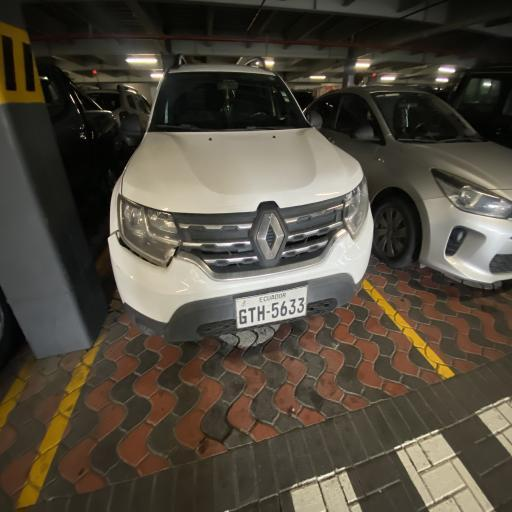license_plate: (237, 307, 248, 327), (296, 296, 306, 314), (270, 302, 280, 319), (257, 304, 266, 322), (288, 298, 296, 316), (248, 307, 256, 324), (280, 300, 288, 317)
